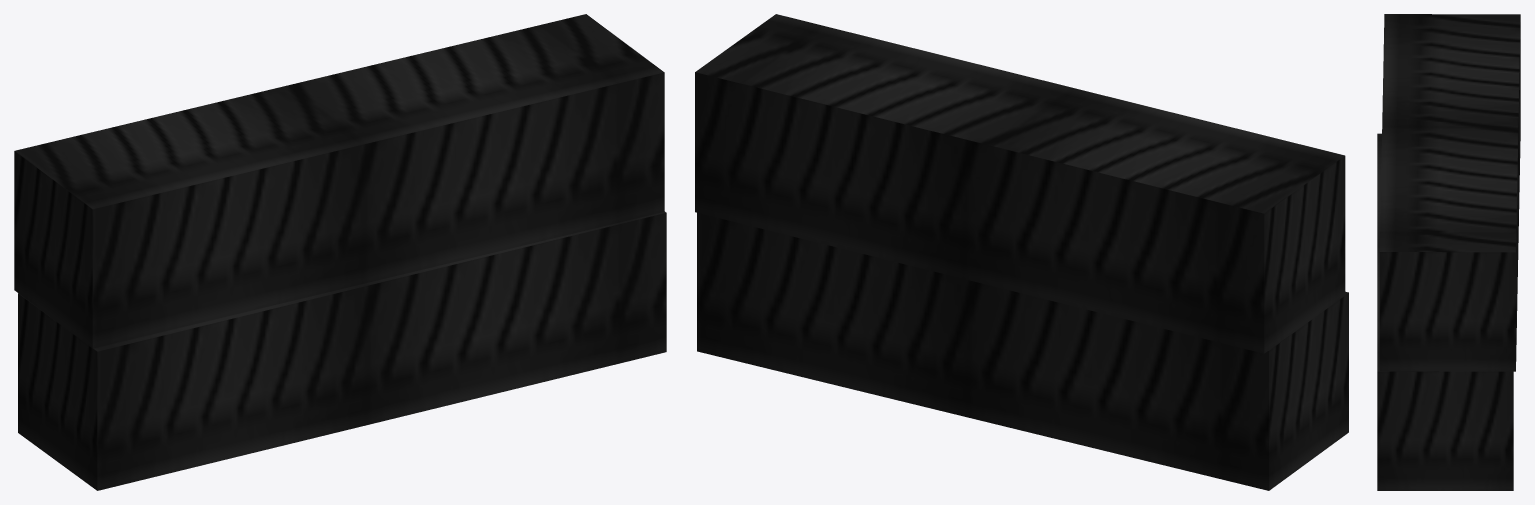
The model's file is Containers.obj.
3 views of the same model, side by side, from view 1: azimuth 30°, elevation 25°; view 2: azimuth 150°, elevation 25°; view 3: azimuth 270°, elevation 25° (orthographic). The views are drawn at different scales.
Parts seen in each view (by area): view 1: Containers; view 2: Containers; view 3: Containers.
Boxes of the visible parts, box(x1,y1,x2,y2) form: Containers: box(14, 14, 666, 490); Containers: box(695, 14, 1348, 490); Containers: box(1377, 14, 1520, 490).
Bounding box in the file's own units: 12.42 × 5.8 × 3.16.
